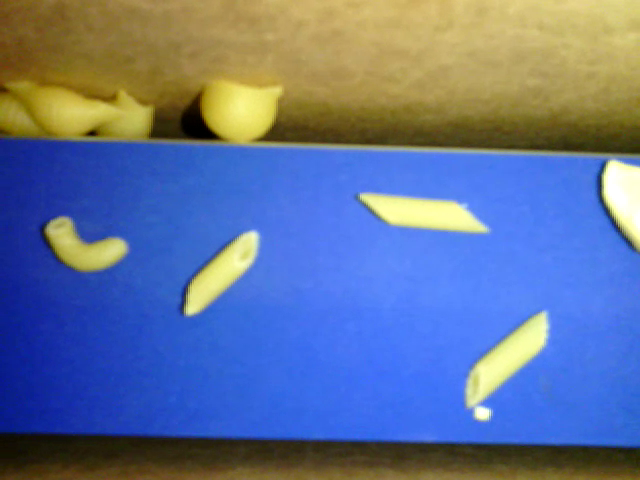elbow: (43, 216, 128, 272)
penne: (464, 305, 549, 407), (179, 227, 261, 317), (357, 193, 496, 232)
shell: (5, 78, 126, 140), (204, 78, 287, 145), (91, 85, 159, 143), (1, 93, 63, 140)
